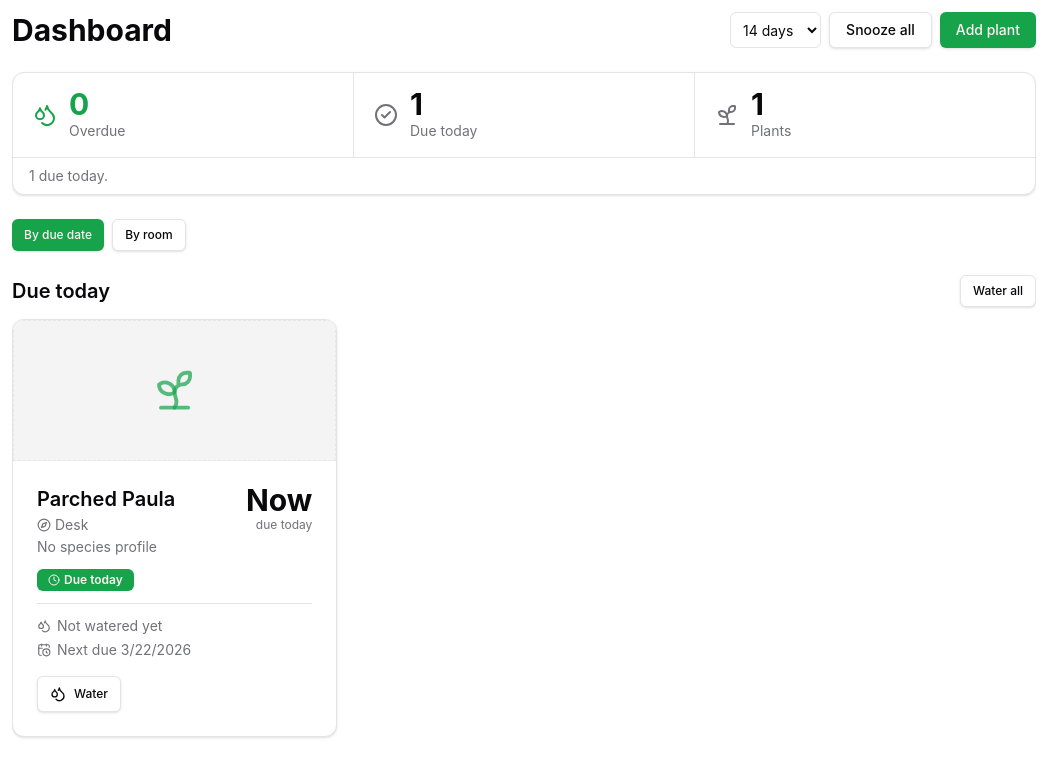
Scenario: DashboardPage › removes a watered plant from the due today section before the server responds
The image size is (1048, 780).
Expected: the link "Parched Paula" is shown, [37,488,175,512]
Click the button "Water" at (79, 694), box [37,676,121,712]
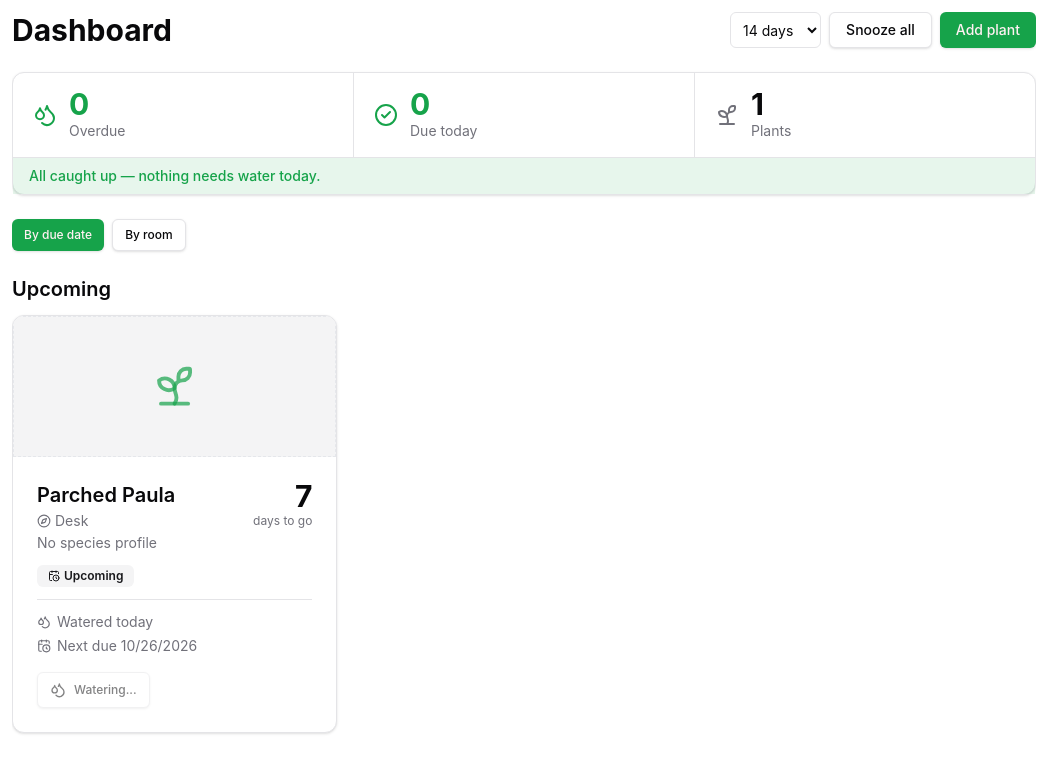
Expected: the link "Parched Paula" is shown, [37,484,175,508]
Now the element named "Due today: 0" is shown, box [354,73,695,157]
